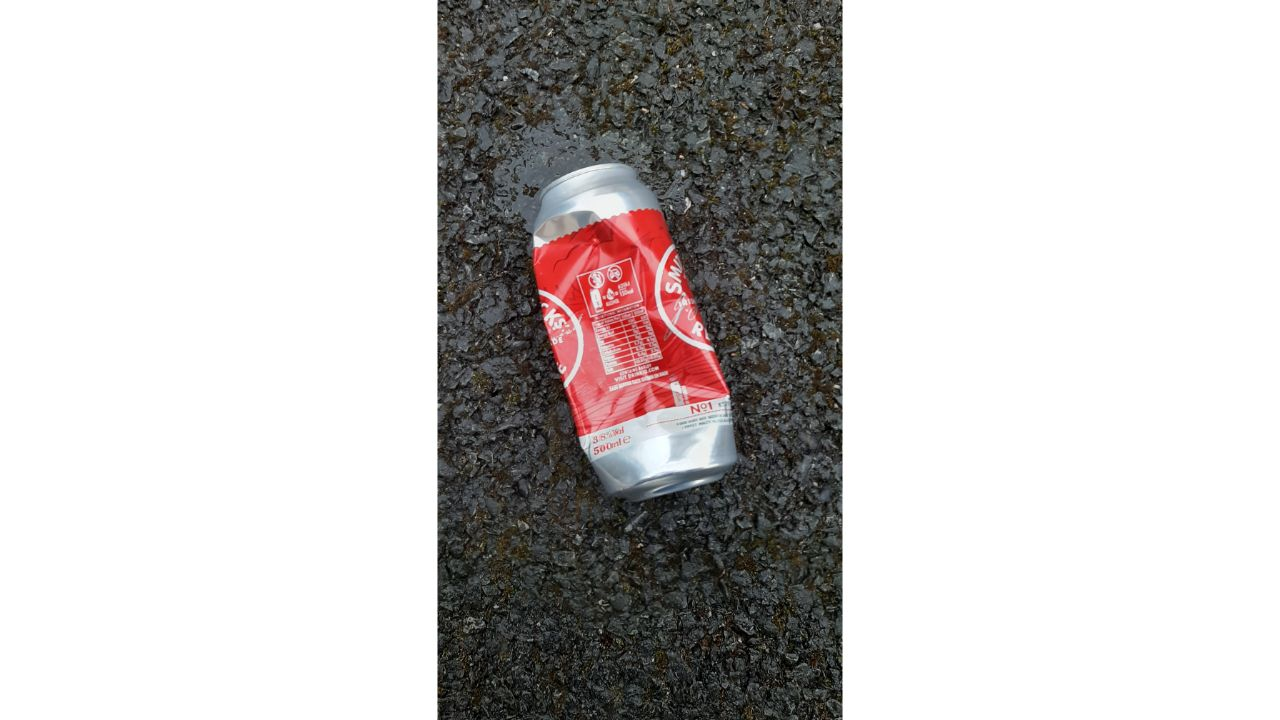Can: (525, 158, 742, 507)
